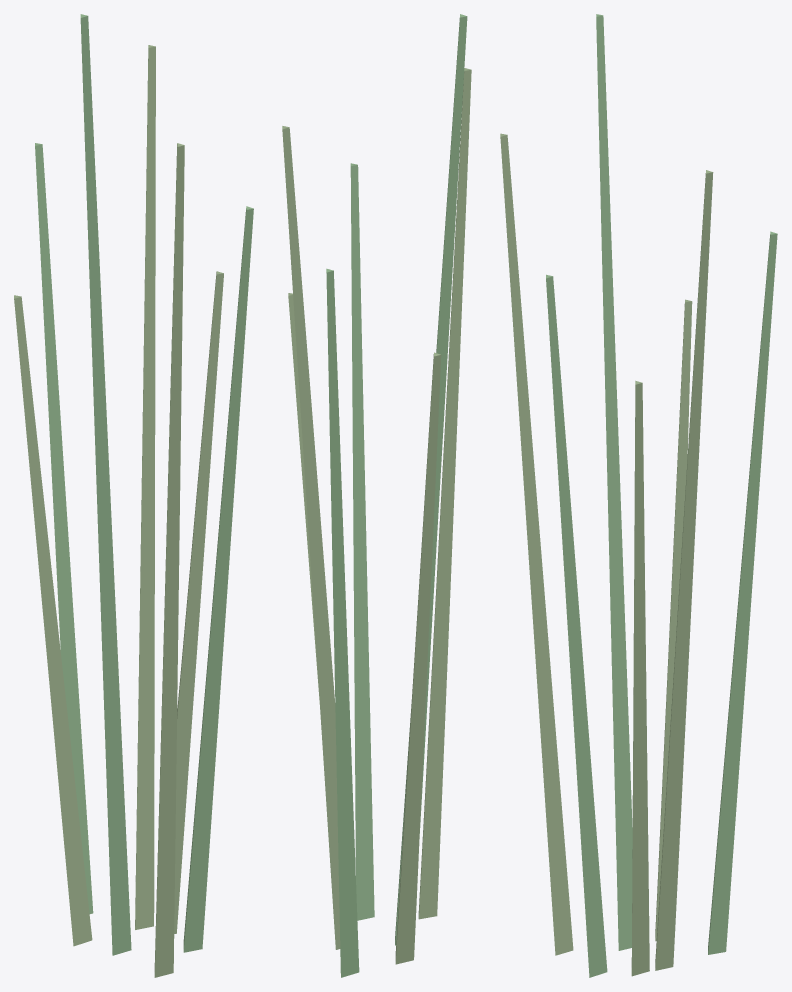
The model's file is reed_v18.glb.
3 views of the same model, side by side, from view 1: azimuth 30°, elevation 25°; view 2: azimuth 150°, elevation 25°; view 3: azimuth 270°, elevation 25° (orthographic). The views are drawn at different scales.
Visible parts, largest first — view 1: lod0; view 2: lod0; view 3: lod0.
Part boxes in pixels (x1,y1,x2,y2): lod0: (14,14,253,977); lod0: (282,14,471,977); lod0: (500,14,777,977).
Size of what is drawn, in the model's own units: 0.335 by 1.67 by 0.4604.
